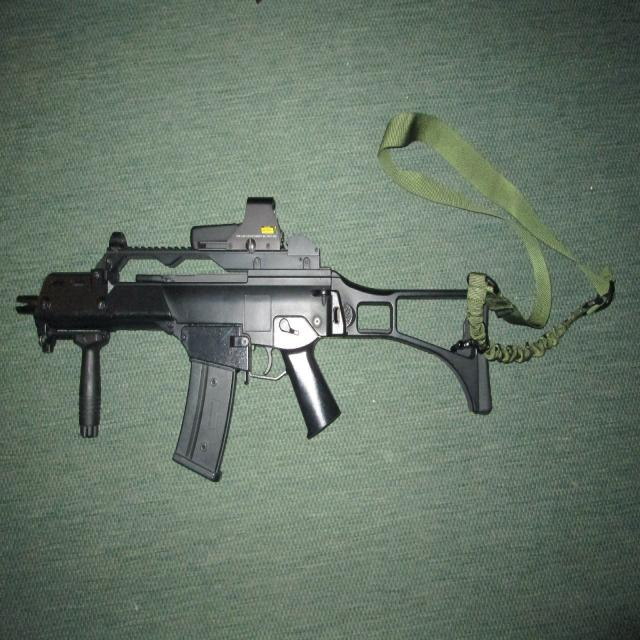firearm: (16, 196, 494, 483)
